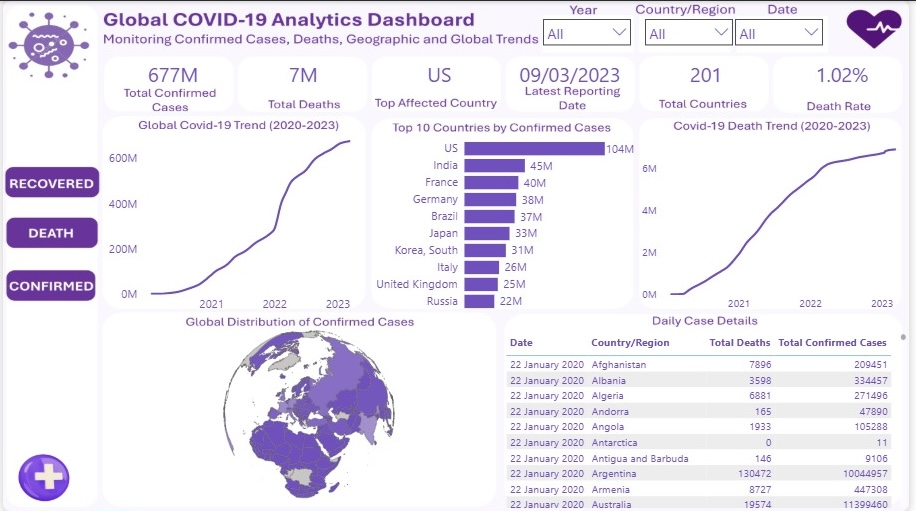

Layout of this report page (visuals, bound fields, positions):
{"tool":"powerbi","page":{"name":"Page 1","canvas":[1280,720],"ordinal":0},"visuals":[{"type":"card","fields":{"Values":["Covid_19.Total Confirmed"]},"box":[144,80,192,48],"z":0},{"type":"card","fields":{"Values":["Covid_19.Total Deaths"]},"box":[336,80,176,48],"z":1000},{"type":"card","fields":{"Values":["Covid_19.Total Countries"]},"box":[528,80,176,48],"z":2000},{"type":"card","fields":{"Values":["Covid_19.Active Cases"]},"box":[704,80,192,48],"z":3000},{"type":"card","fields":{"Values":["Covid_19.Latest Report Date"]},"box":[896,80,192,48],"z":4000},{"type":"card","fields":{"Values":["Covid_19.Death Rate"]},"box":[1088,80,192,48],"z":5000},{"type":"slicer","fields":{"Values":["Date Table.Year"]},"box":[432,16,144,64],"z":6000},{"type":"slicer","fields":{"Values":["Date Table.Month Short"]},"box":[624,16,144,64],"z":7000},{"type":"slicer","fields":{"Values":["Covid_19.Country/Region"]},"box":[800,16,144,64],"z":8000},{"type":"slicer","fields":{"Values":["Date Table.Date"]},"box":[992,16,144,64],"z":9000},{"type":"lineChart","fields":{"Y":["Covid_19.Total Confirmed"],"Category":["Date Table.Date"]},"box":[144,160,368,272],"z":10000},{"type":"clusteredBarChart","fields":{"Y":["Covid_19.Total Deaths"],"Category":["Covid_19.Country/Region"]},"box":[512,160,400,288],"z":11000},{"type":"clusteredBarChart","fields":{"Y":["Sum(Covid_19.Confirmed Cases)"],"Category":["Covid_19.Country/Region"]},"box":[512,448,400,272],"z":12000},{"type":"donutChart","fields":{"Category":["Covid_19.Country/Region"],"Y":["Covid_19.Total Confirmed"]},"box":[880,160,400,288],"z":13000},{"type":"columnChart","fields":{"Y":["Sum(Covid_19.Confirmed Cases)"],"Category":["Date Table.Date"]},"box":[144,432,384,288],"z":14000},{"type":"filledMap","fields":{"Category":["Covid_19.Province/State"]},"box":[896,464,384,256],"z":15000},{"type":"actionButton","box":[0,0,100,40],"z":16000},{"type":"qnaVisual","box":[624,0,150,150],"z":16001}]}

Visuals, with their boxes in screenshot pixels (x1, y1, x2, y2), scaled from the page's 1280x720 canvas onto the 916x511 screenshot:
card - Covid_19.Total Confirmed: [103,57,240,91]
card - Covid_19.Total Deaths: [240,57,366,91]
card - Covid_19.Total Countries: [378,57,504,91]
card - Covid_19.Active Cases: [504,57,641,91]
card - Covid_19.Latest Report Date: [641,57,779,91]
card - Covid_19.Death Rate: [779,57,915,91]
slicer - Date Table.Year: [309,11,412,57]
slicer - Date Table.Month Short: [447,11,550,57]
slicer - Covid_19.Country/Region: [572,11,676,57]
slicer - Date Table.Date: [710,11,813,57]
lineChart - Covid_19.Total Confirmed x Date Table.Date: [103,114,366,307]
clusteredBarChart - Covid_19.Total Deaths x Covid_19.Country/Region: [366,114,653,318]
clusteredBarChart - Sum(Covid_19.Confirmed Cases) x Covid_19.Country/Region: [366,318,653,510]
donutChart - Covid_19.Country/Region x Covid_19.Total Confirmed: [630,114,915,318]
columnChart - Sum(Covid_19.Confirmed Cases) x Date Table.Date: [103,307,378,510]
filledMap - Covid_19.Province/State: [641,329,915,510]
actionButton: [0,0,72,28]
qnaVisual: [447,0,554,106]
